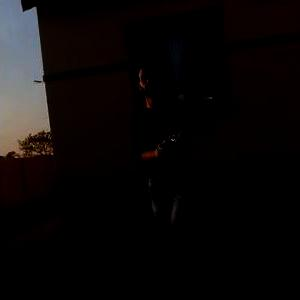follow: (123, 46, 230, 298)
